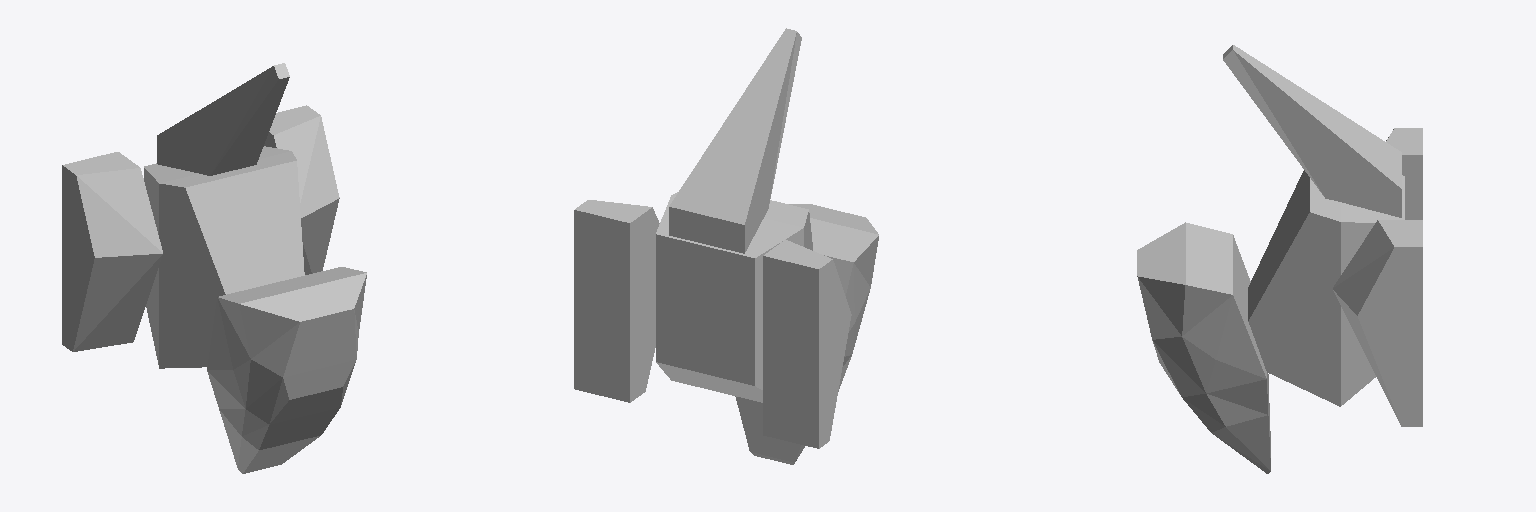
The model's file is Porygon_ColladaMax.obj.
3 views of the same model, side by side, from view 1: azimuth 30°, elevation 25°; view 2: azimuth 150°, elevation 25°; view 3: azimuth 270°, elevation 25° (orthographic).
Visible parts, largest first — view 1: Porygon; view 2: Porygon; view 3: Porygon.
Part boxes in pixels (x1,y1,x2,y2): Porygon: (62, 63, 366, 473); Porygon: (574, 28, 878, 464); Porygon: (1137, 45, 1422, 473).
Bounding box in the file's own units: 79.28 × 129 × 80.